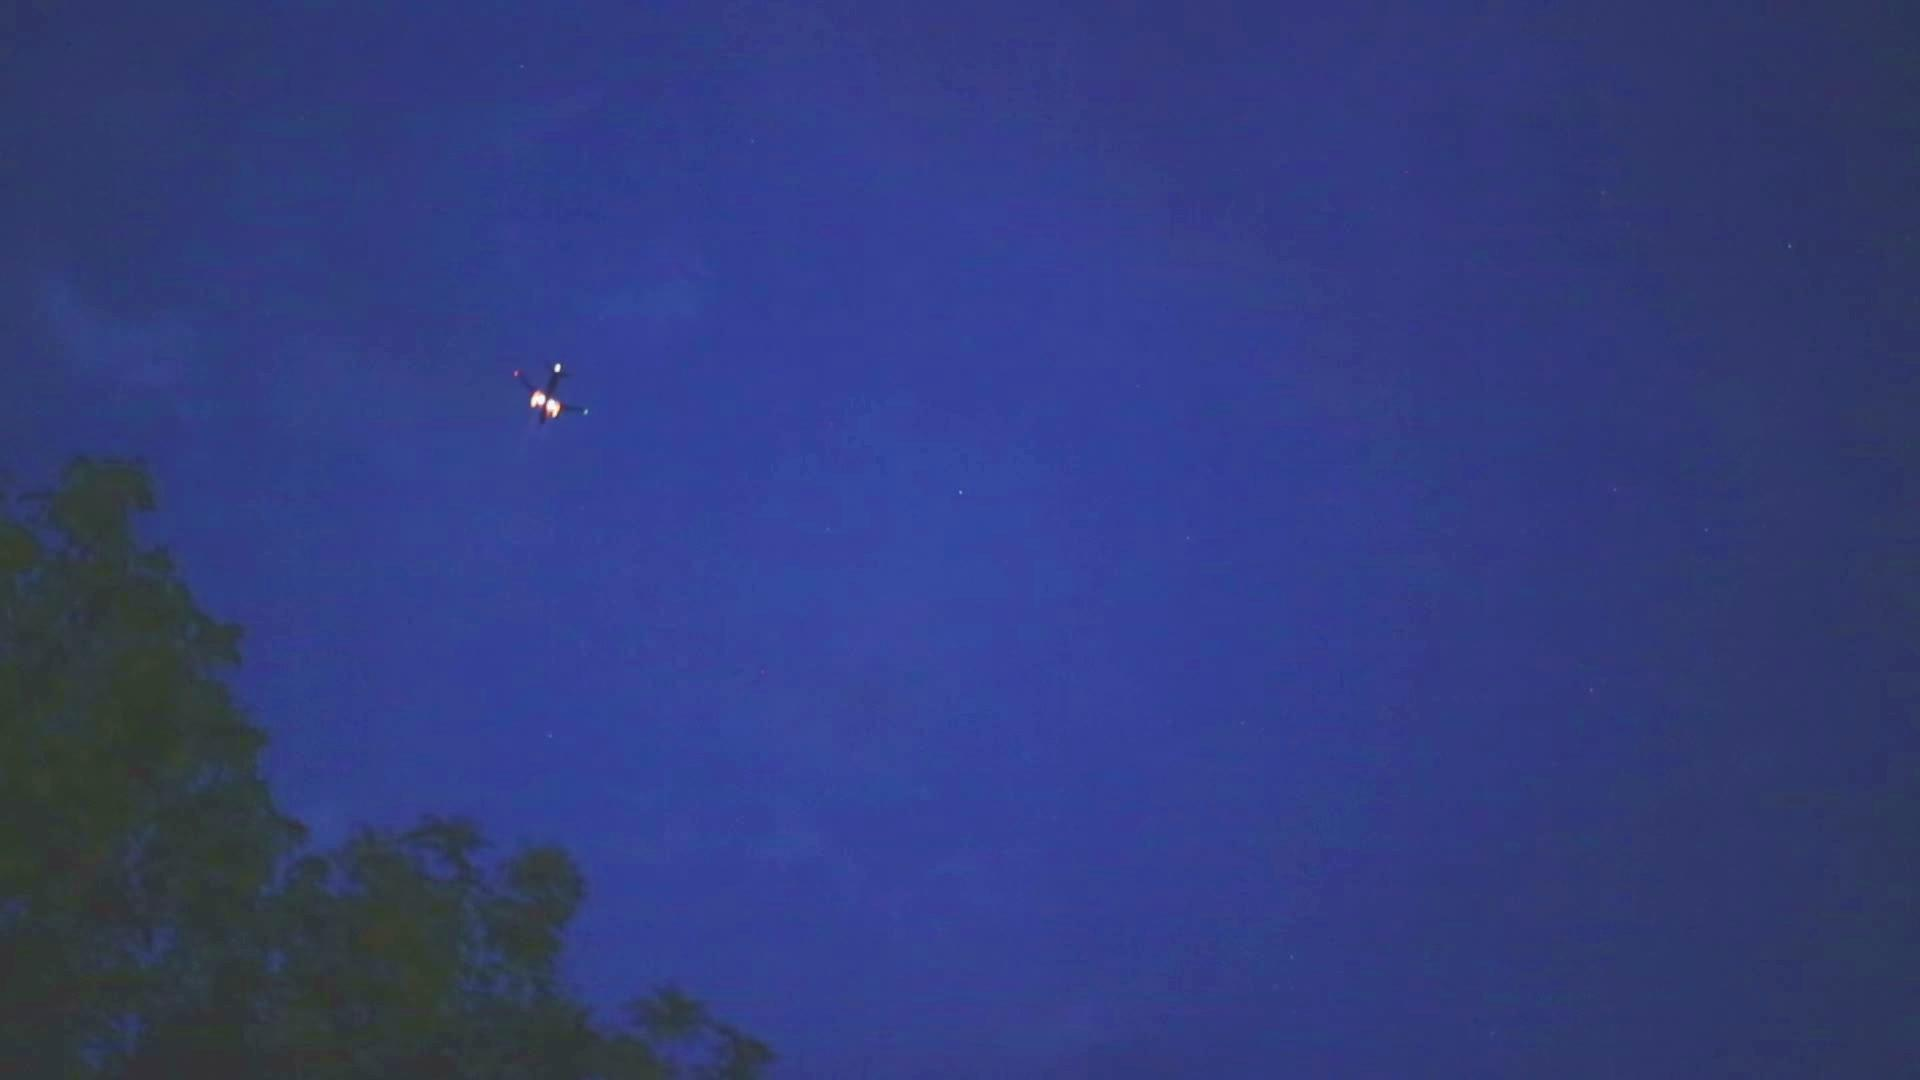Plane: (495, 345, 607, 442)
